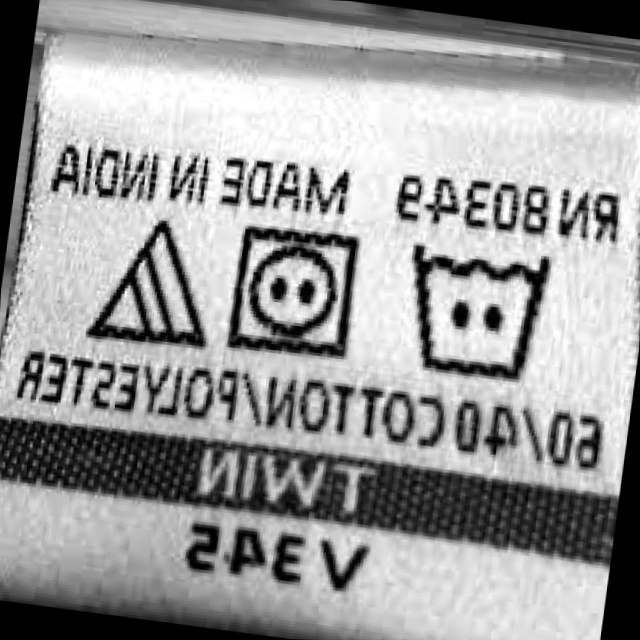40C: (388, 229, 565, 394)
non_chlorine_bleach: (80, 209, 229, 360)
tumble_dry_medium: (218, 214, 371, 366)
